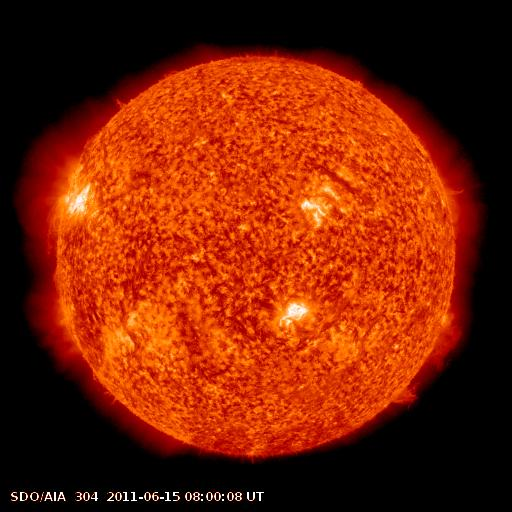prominence: (377, 310, 483, 409)
